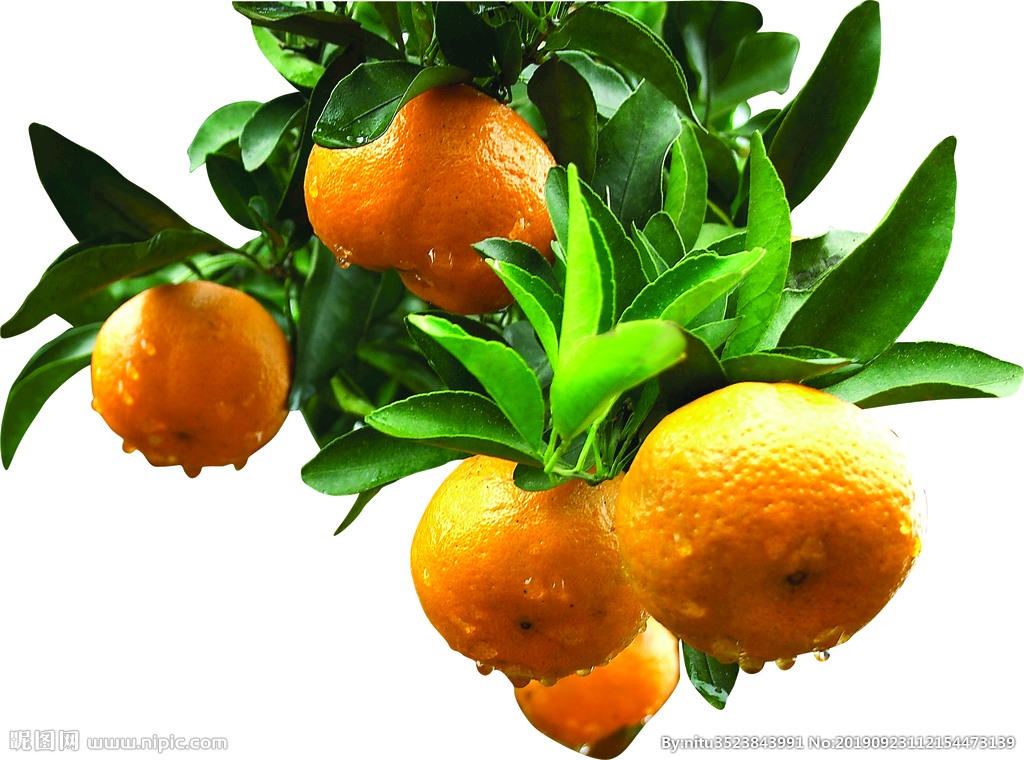orange: (618, 381, 916, 665), (301, 80, 563, 314), (410, 448, 652, 675), (89, 282, 290, 468), (512, 598, 681, 760)
